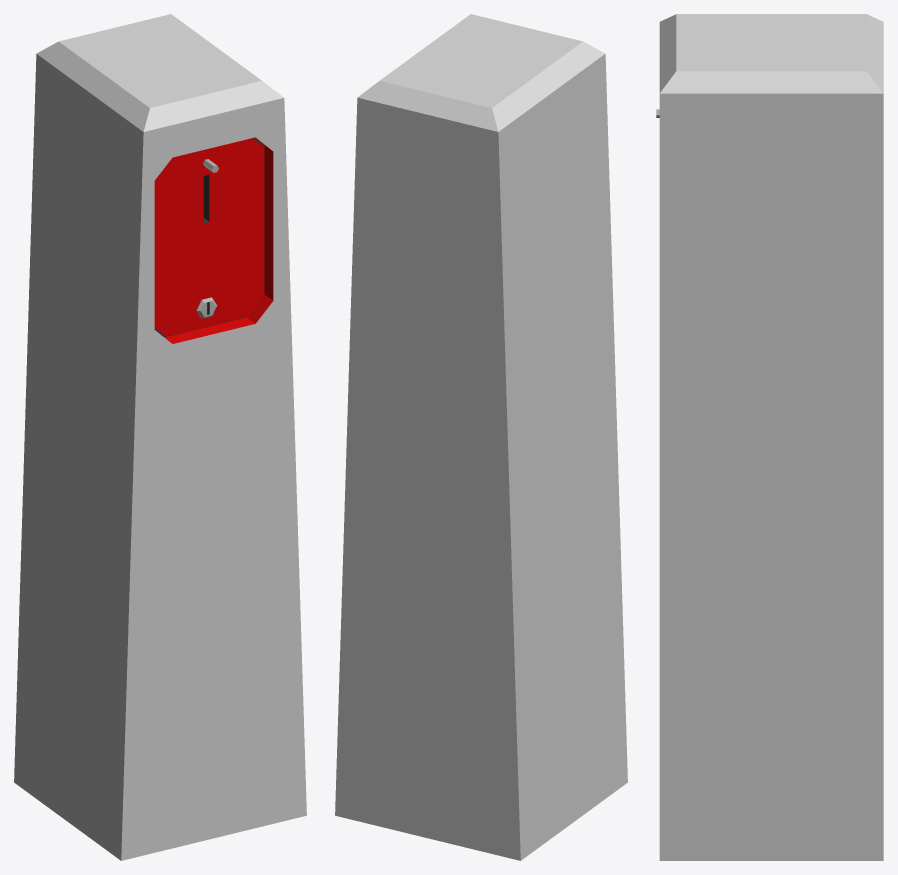
File: Coin Drop.fbx
3 renders of one model, left to right at view 1: azimuth 30°, elevation 25°; view 2: azimuth 150°, elevation 25°; view 3: azimuth 270°, elevation 25°, orthographic. The views are drawn at different scales.
Parts seen in each view (by area): view 1: CoinDrop; view 2: CoinDrop; view 3: CoinDrop.
Boxes of the visible parts, x1,y1,x2,y2 form: CoinDrop: (14,14,306,860); CoinDrop: (335,14,627,860); CoinDrop: (656,14,883,860).
Size of the model in its own units: 34.52 by 131 by 34.99.
